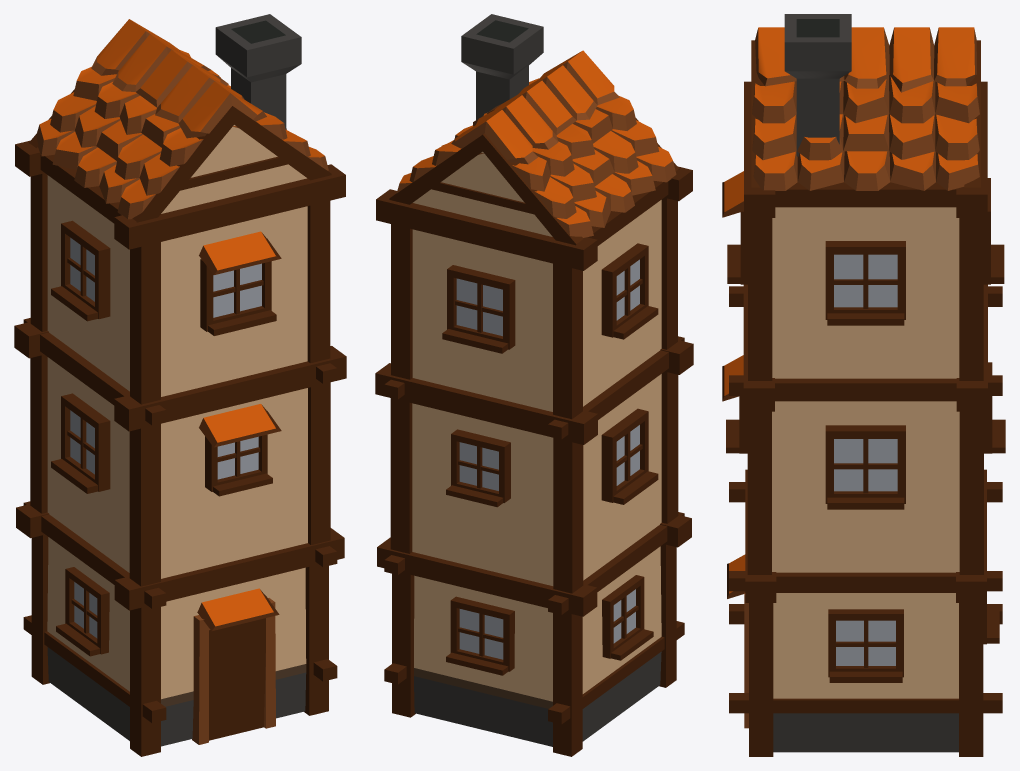
Rendered from SM_House_T3.fbx.
3 views of the same model, side by side, from view 1: azimuth 30°, elevation 25°; view 2: azimuth 150°, elevation 25°; view 3: azimuth 270°, elevation 25° (orthographic). The views are drawn at different scales.
Parts seen in each view (by area): view 1: SM_House_T3; view 2: SM_House_T3; view 3: SM_House_T3.
Part boxes in pixels (x1,y1,x2,y2): SM_House_T3: (14, 14, 346, 756); SM_House_T3: (375, 14, 693, 756); SM_House_T3: (722, 14, 1005, 756).
Bounding box in the file's own units: 65.72 × 187 × 67.91.
